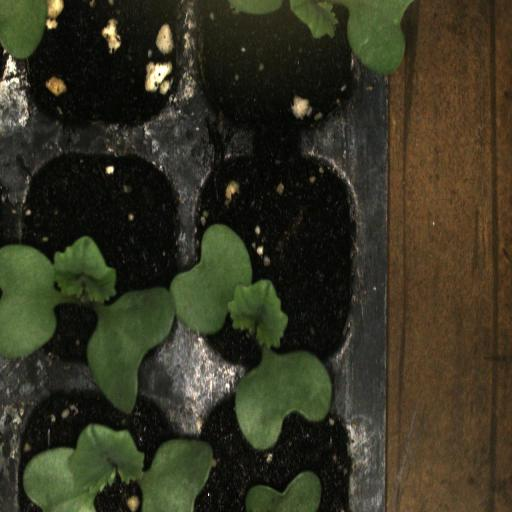seedling: (9, 144, 192, 382), (191, 143, 367, 387), (10, 380, 192, 512)
